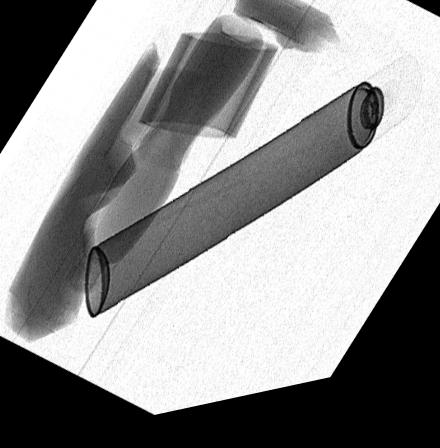Sprayer: (83, 73, 423, 321)
